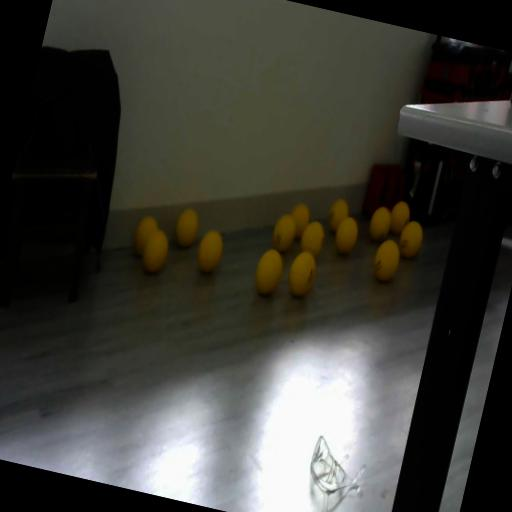FUEL: (249, 245, 288, 300), (284, 247, 320, 301), (138, 226, 174, 278), (193, 228, 227, 276), (370, 236, 404, 284), (296, 216, 328, 260), (331, 214, 362, 258), (395, 218, 426, 261), (172, 206, 202, 250), (285, 202, 313, 244), (366, 204, 394, 244), (386, 198, 414, 237)
